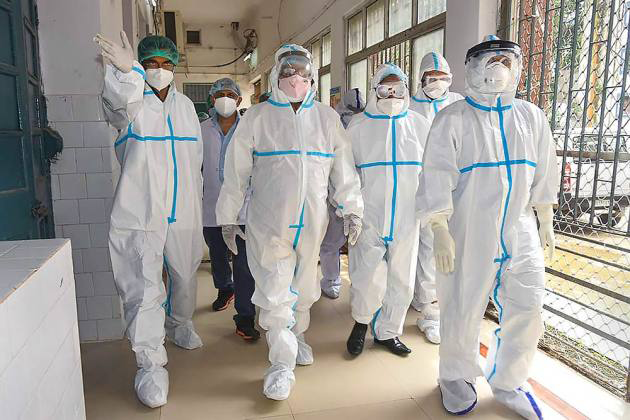Coverall: (434, 98, 546, 385), (106, 66, 202, 353), (239, 101, 331, 343), (349, 111, 430, 312)
Gloves: (90, 26, 138, 75), (428, 215, 459, 276), (532, 201, 559, 259), (218, 217, 246, 256), (340, 210, 363, 246)
Goggles: (373, 82, 410, 101), (422, 67, 456, 87)
with_mask: (279, 66, 311, 103), (376, 87, 409, 119), (486, 57, 512, 94), (145, 63, 174, 94), (212, 91, 239, 117)
